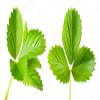Strawberry leaf: (62, 6, 82, 64), (6, 6, 24, 61), (47, 44, 70, 85), (73, 45, 97, 83), (21, 28, 47, 58), (9, 57, 28, 83)
